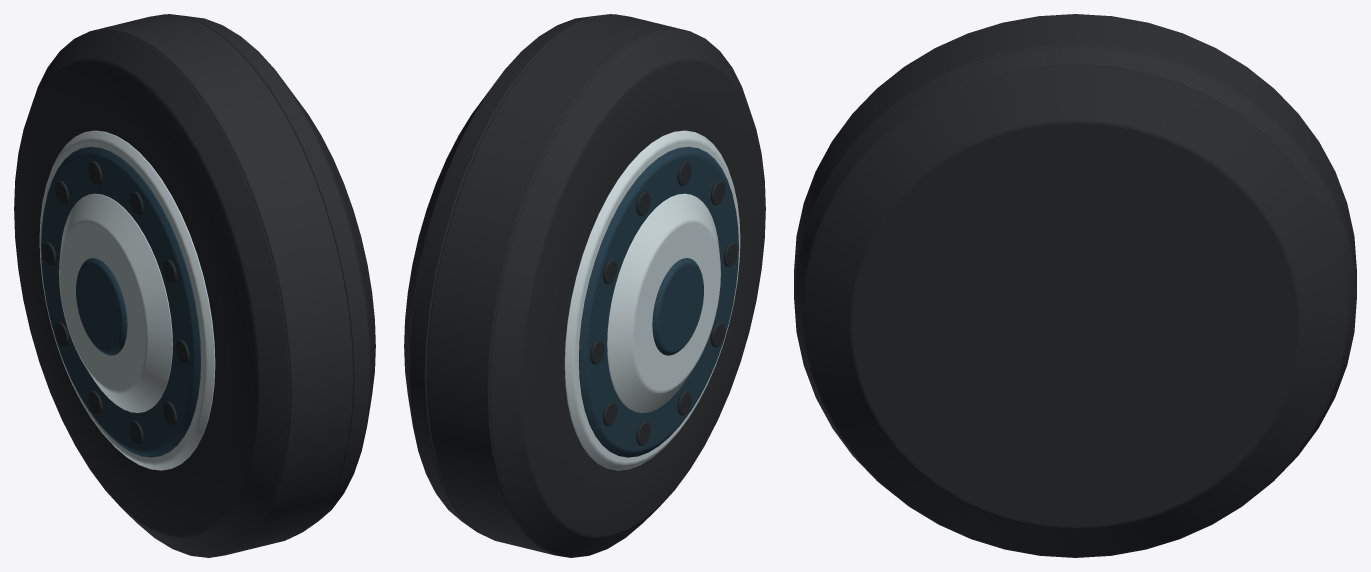
Rendered from PatrolCruiserWheel.fbx.
The picture shows the model from 3 angles, left to right: view 1: azimuth 30°, elevation 25°; view 2: azimuth 150°, elevation 25°; view 3: azimuth 270°, elevation 25°; orthographic projection. The views are drawn at different scales.
Visible parts, largest first — view 1: PatrolCruiserWheel; view 2: PatrolCruiserWheel; view 3: PatrolCruiserWheel.
Boxes of the visible parts, x1,y1,x2,y2 form: PatrolCruiserWheel: [14, 14, 375, 557]; PatrolCruiserWheel: [404, 14, 765, 557]; PatrolCruiserWheel: [794, 14, 1356, 557].
Bounding box in the file's own units: 30.36 × 84.04 × 84.04.
